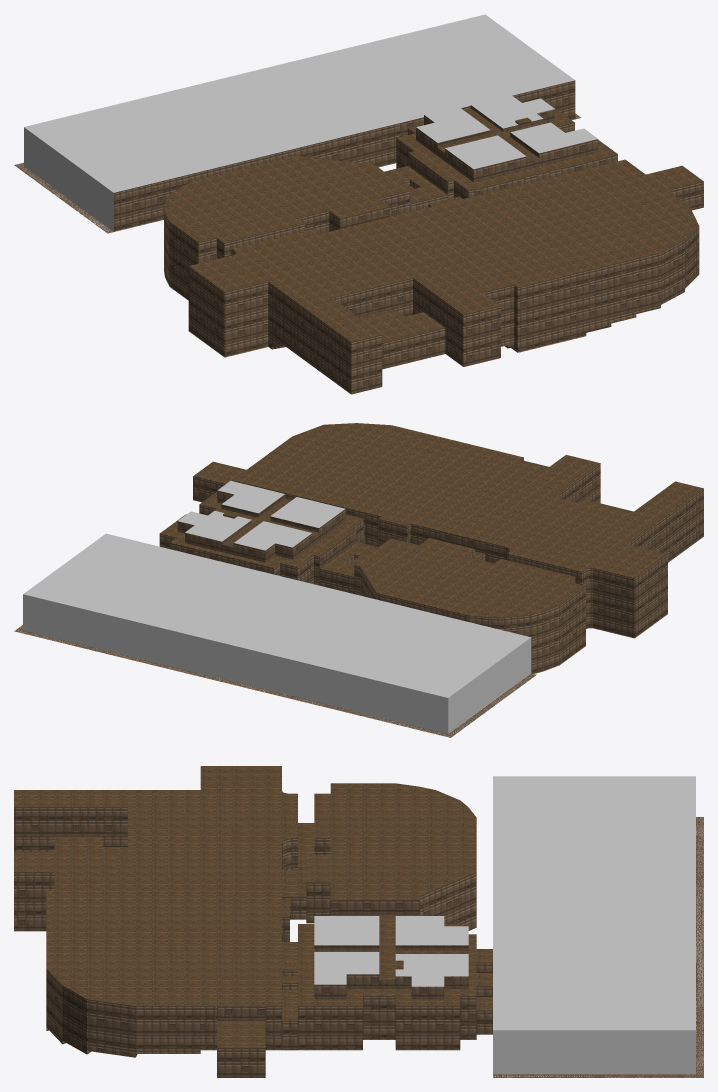
The model's file is MAP01_MAP01.obj.
The picture shows the model from 3 angles, top to bottom: view 1: azimuth 30°, elevation 25°; view 2: azimuth 150°, elevation 25°; view 3: azimuth 270°, elevation 25°; orthographic projection. The views are drawn at different scales.
Parts seen in each view (by area): view 1: MAP01; view 2: MAP01; view 3: MAP01.
Boxes of the visible parts, x1,y1,x2,y2 form: MAP01: (14,14,703,394); MAP01: (14,423,703,737); MAP01: (14,766,703,1077).
Size of the model in its own units: 77.38 by 11.9 by 84.32.
